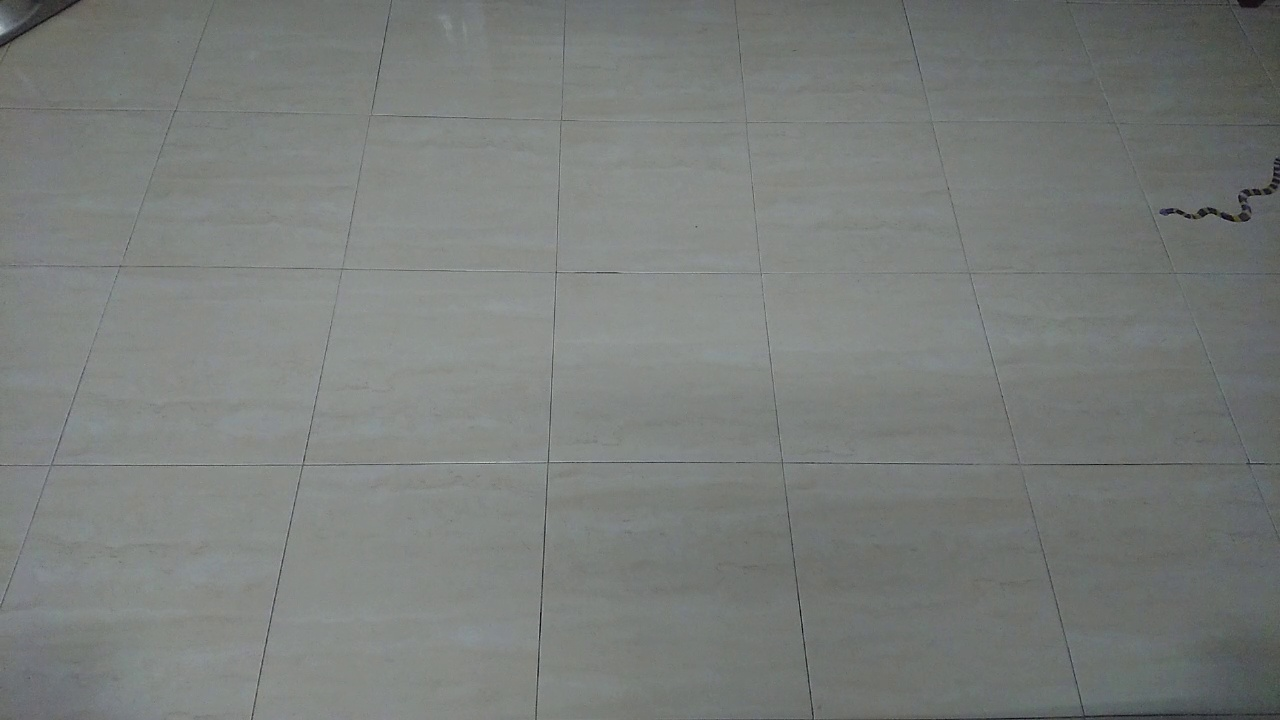snake: (1151, 148, 1280, 231)
